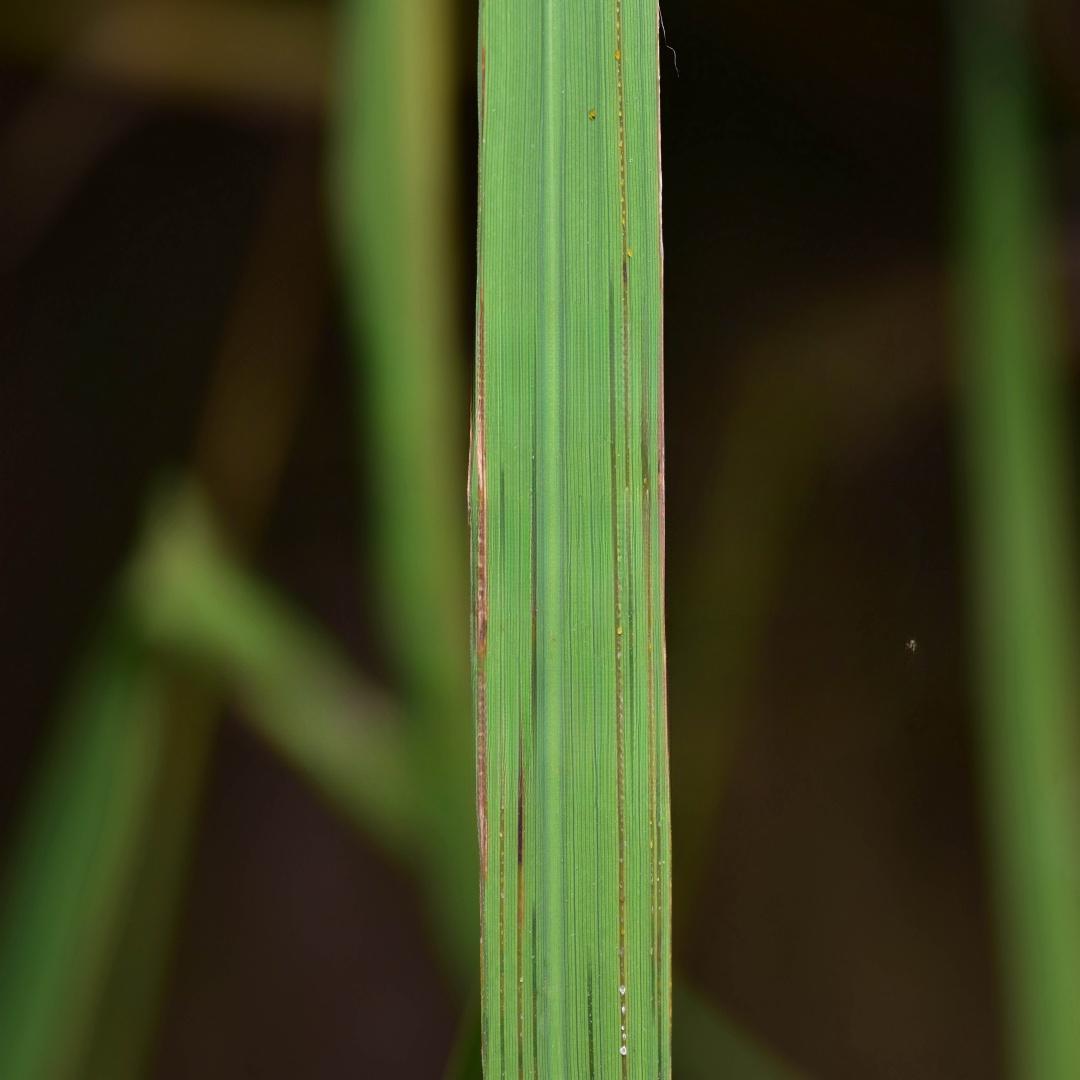BLS: (655, 0, 672, 1079), (606, 277, 626, 1079), (616, 0, 633, 768), (642, 307, 655, 1026), (477, 279, 487, 1079), (518, 633, 524, 1079), (501, 683, 506, 1079), (656, 768, 662, 1079), (533, 335, 537, 776), (586, 950, 596, 1079), (532, 907, 538, 1079)
